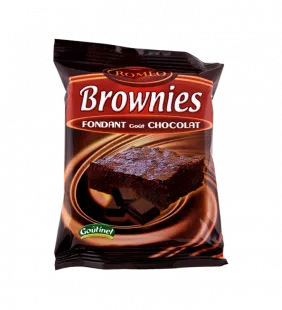ROMEO: (44, 29, 236, 276)
